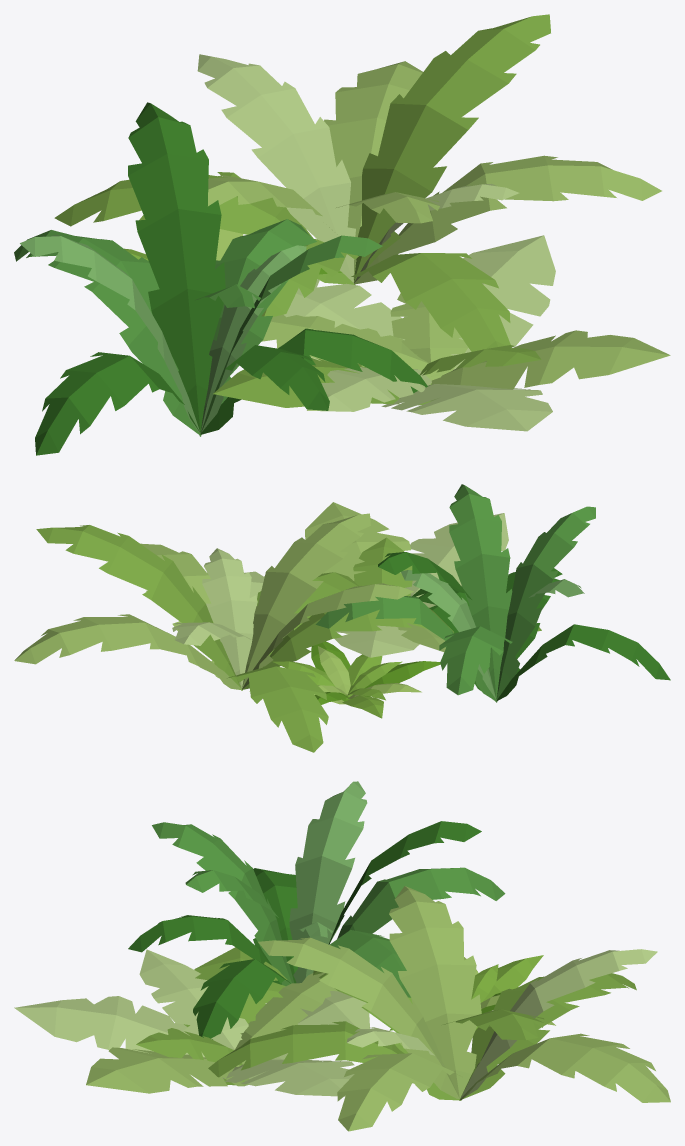
The model's file is GrassSet5.glb.
3 views of the same model, one above another, from view 1: azimuth 30°, elevation 25°; view 2: azimuth 150°, elevation 25°; view 3: azimuth 270°, elevation 25° (orthographic). The views are drawn at different scales.
Visible parts, largest first — view 1: Plane_006, Bust_14, Bust_13; view 2: Plane_006, Bust_14, Bust_13, Bust_18; view 3: Plane_006, Bust_14, Bust_13, Bust_18.
Boxes of the visible parts, box(x1,y1,x2,y2) form: Plane_006: box(54, 14, 661, 351); Bust_14: box(14, 102, 427, 455); Bust_13: box(213, 235, 670, 431); Plane_006: box(14, 513, 426, 752); Bust_14: box(315, 484, 670, 702); Bust_13: box(244, 502, 541, 657); Bust_18: box(249, 641, 440, 718); Plane_006: box(208, 886, 670, 1131); Bust_14: box(128, 781, 505, 1039); Bust_13: box(14, 947, 369, 1096); Bust_18: box(389, 955, 555, 1030).
Bounding box in the file's own units: 1.81 × 0.6334 × 1.76.
1 material, 1 textured.
